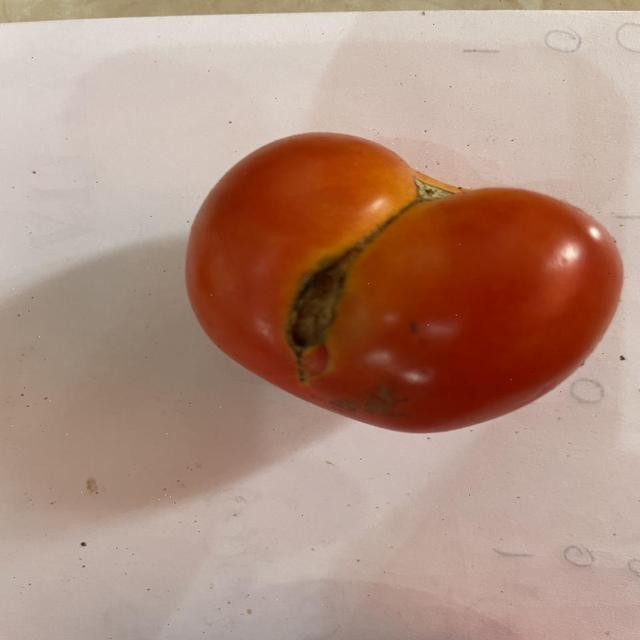Cracking Fruit: (80, 115, 295, 367)
